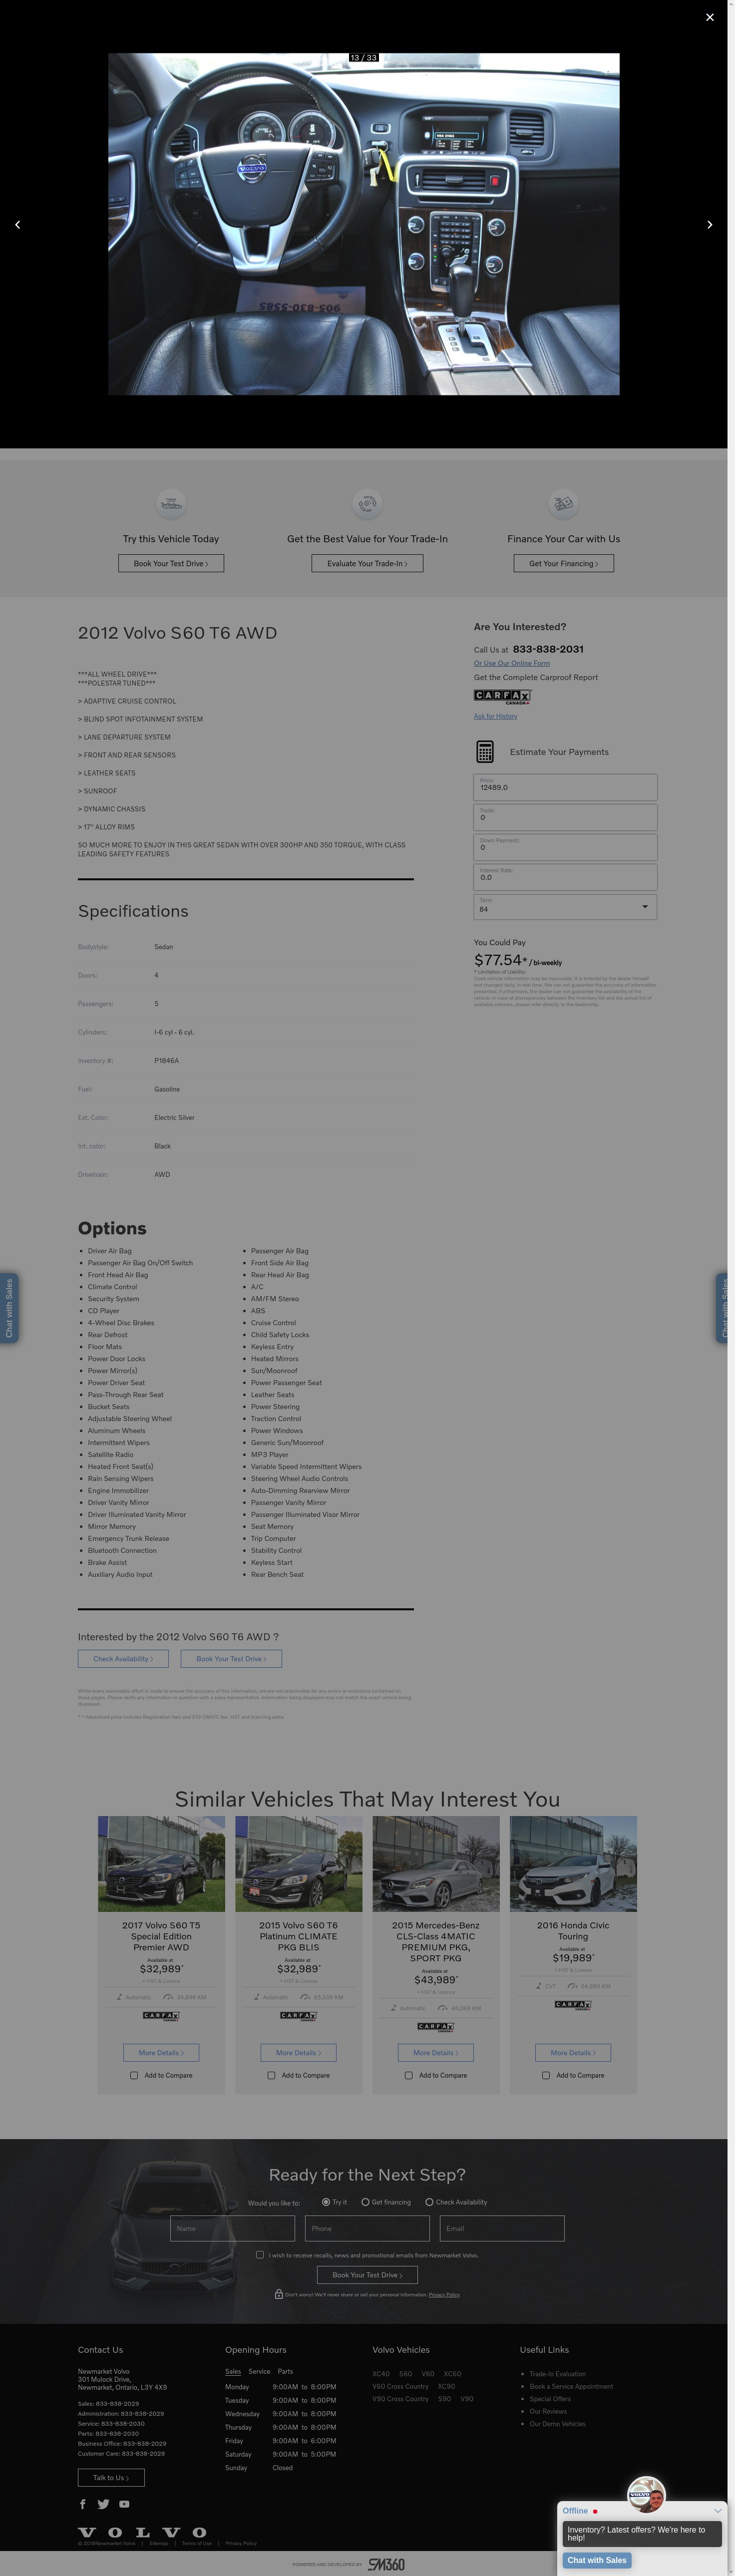car: (705, 218, 714, 232)
